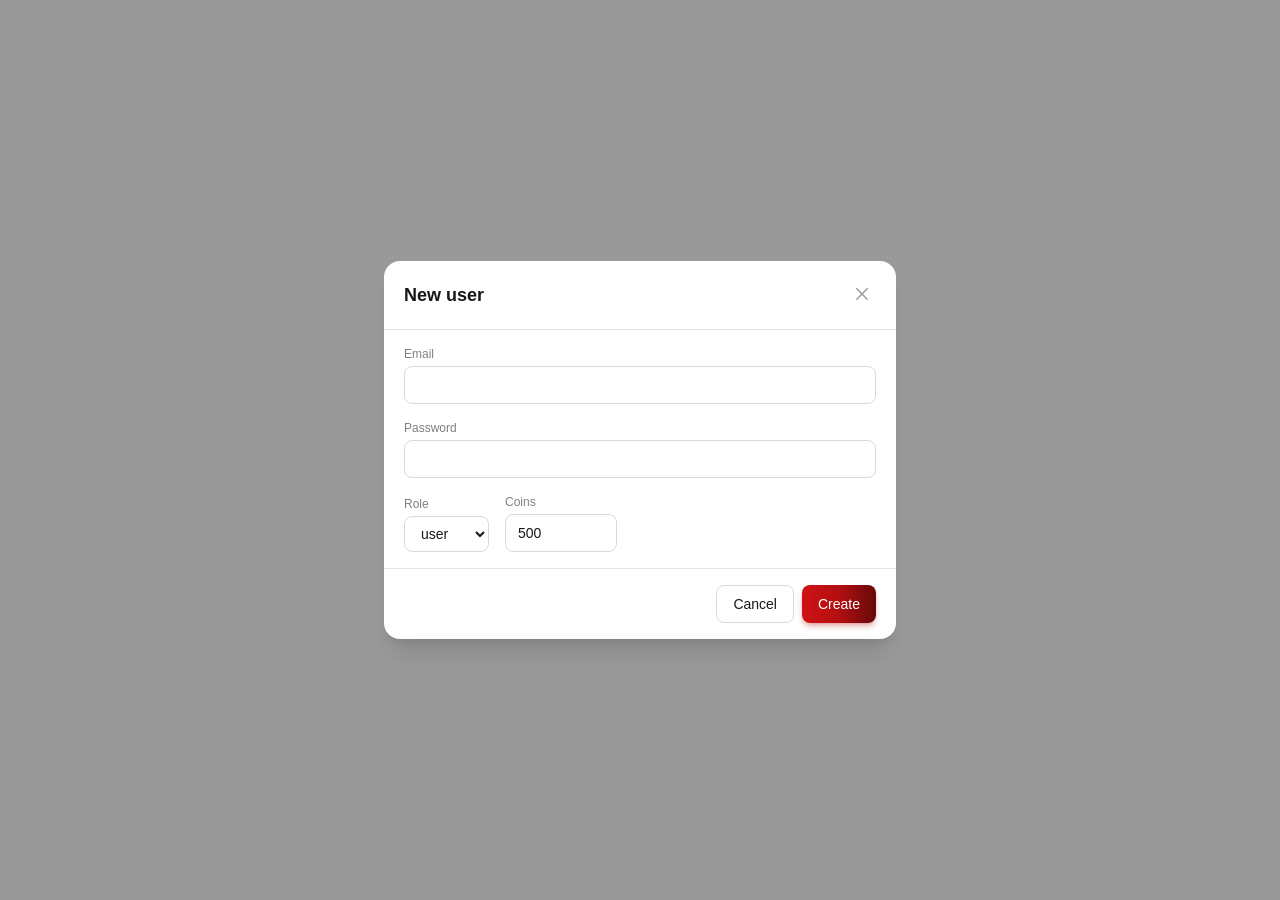
Scenario: shows error on failure
The width and height of the screenshot is (1280, 900).
Type "existing@test.com" into the field at [640, 385], box left=404, top=366, right=876, bottom=404
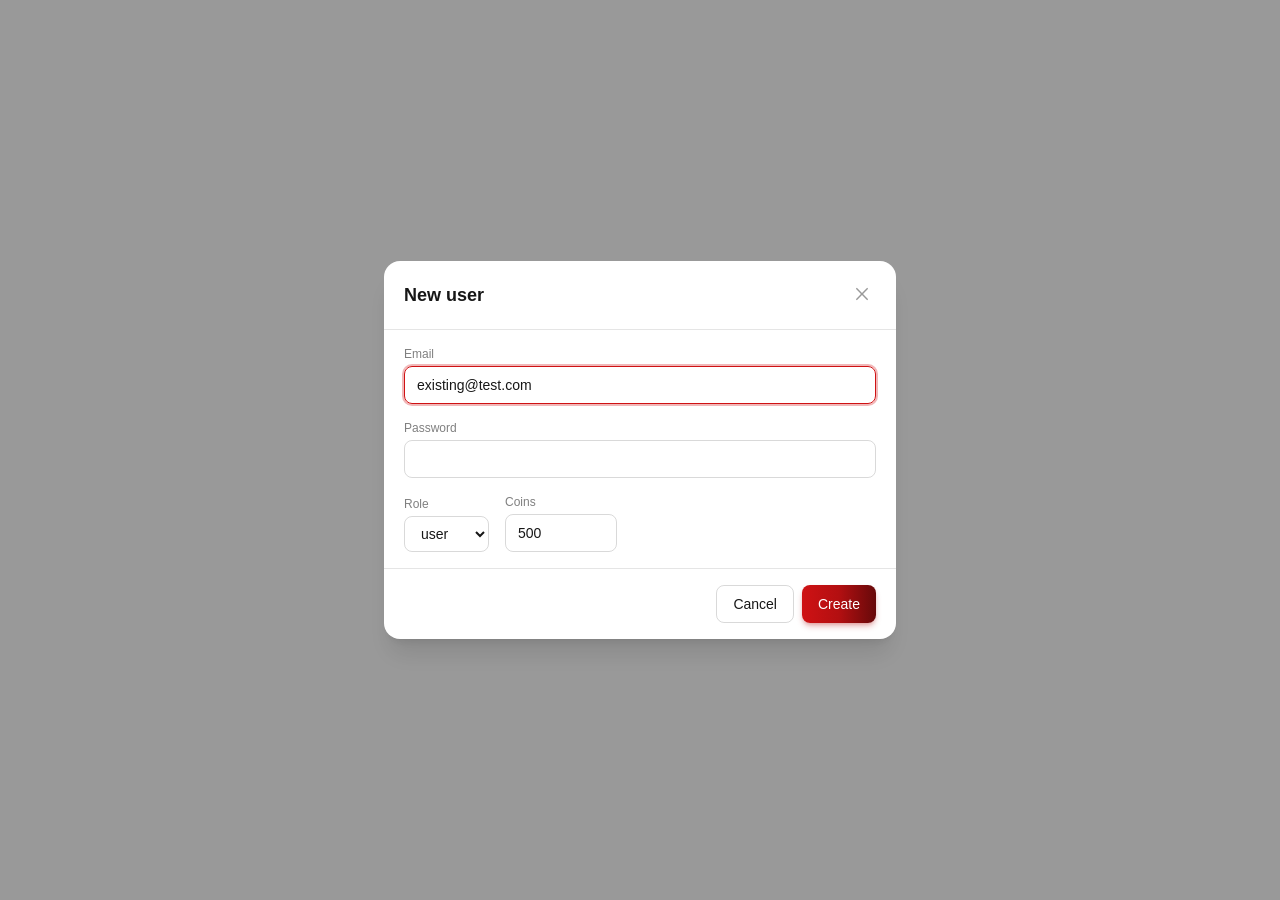
Type "password123" into the password field at [640, 459], box left=404, top=440, right=876, bottom=478
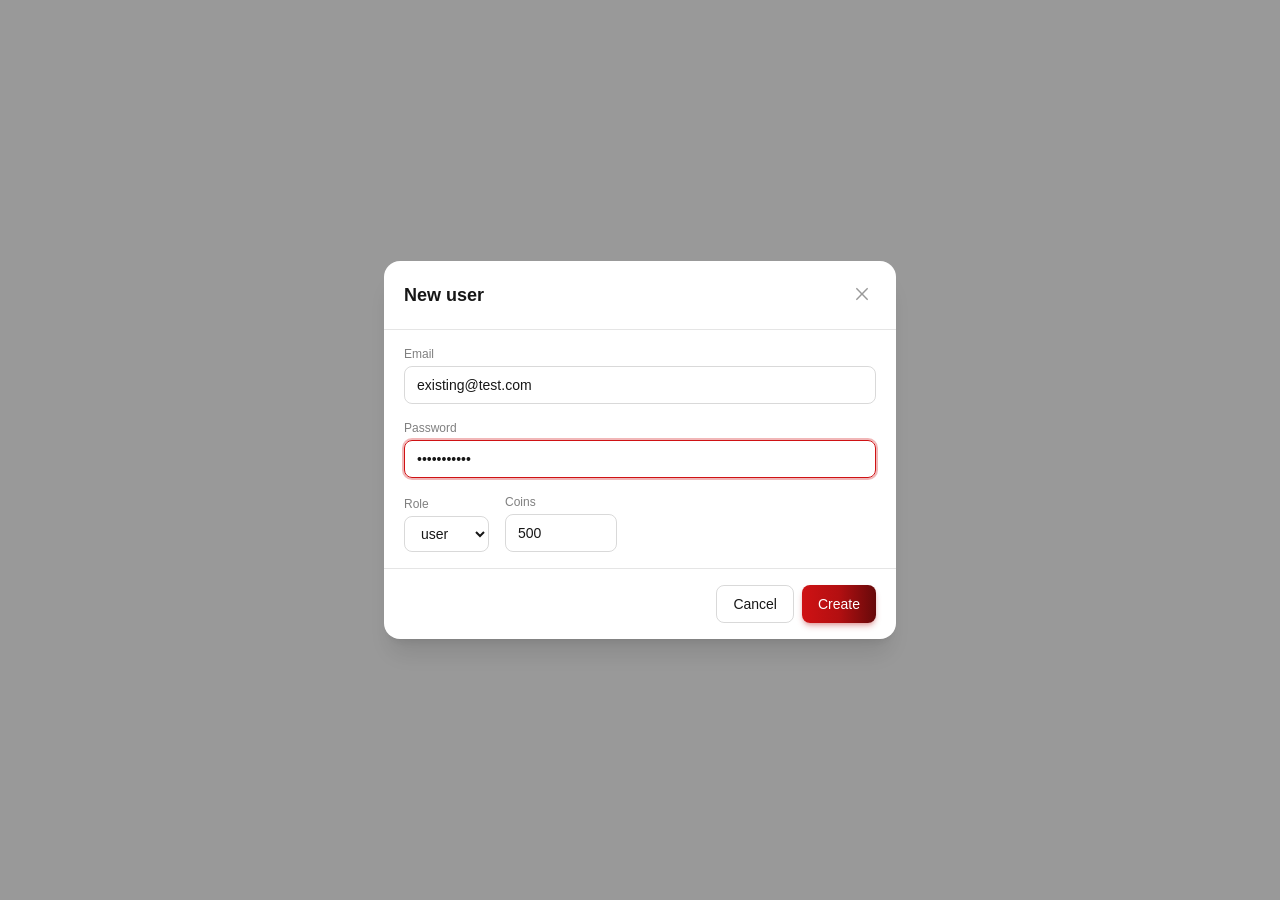
Click the button "Create" at [839, 604], box left=802, top=585, right=876, bottom=623
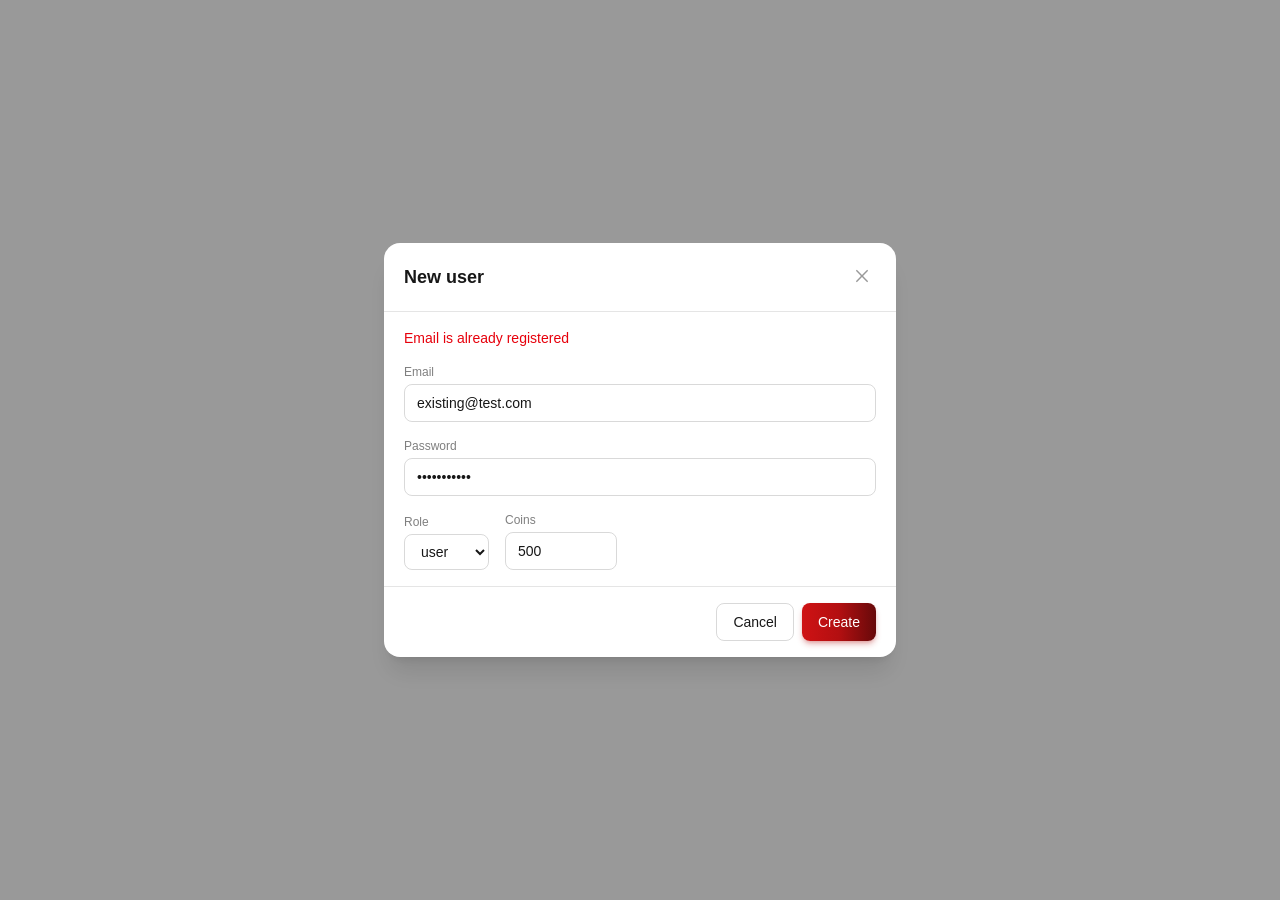
expect the text "Email is already registered" is shown: met, box left=404, top=330, right=569, bottom=346
